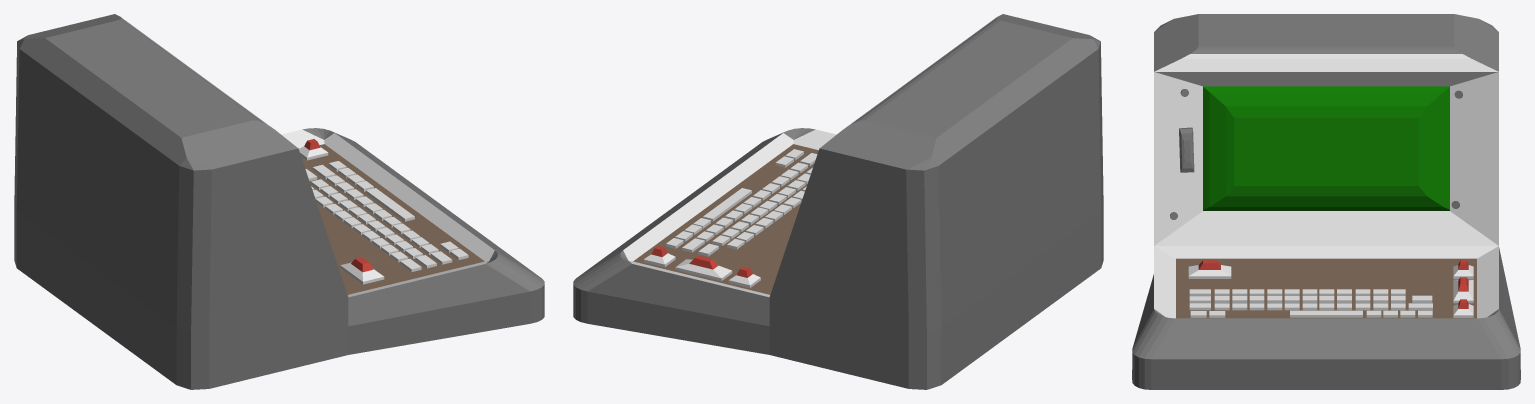
File: Terminal.fbx
3 renders of one model, left to right at view 1: azimuth 30°, elevation 25°; view 2: azimuth 150°, elevation 25°; view 3: azimuth 270°, elevation 25°, orthographic. The views are drawn at different scales.
Parts seen in each view (by area): view 1: Terminal_01; view 2: Terminal_01; view 3: Terminal_01.
Part boxes in pixels (left/top/right/bottom): Terminal_01: left=14, top=14, right=544, bottom=389; Terminal_01: left=573, top=14, right=1103, bottom=389; Terminal_01: left=1132, top=14, right=1520, bottom=389.
Size of the model in its own units: 221 by 142 by 225.
